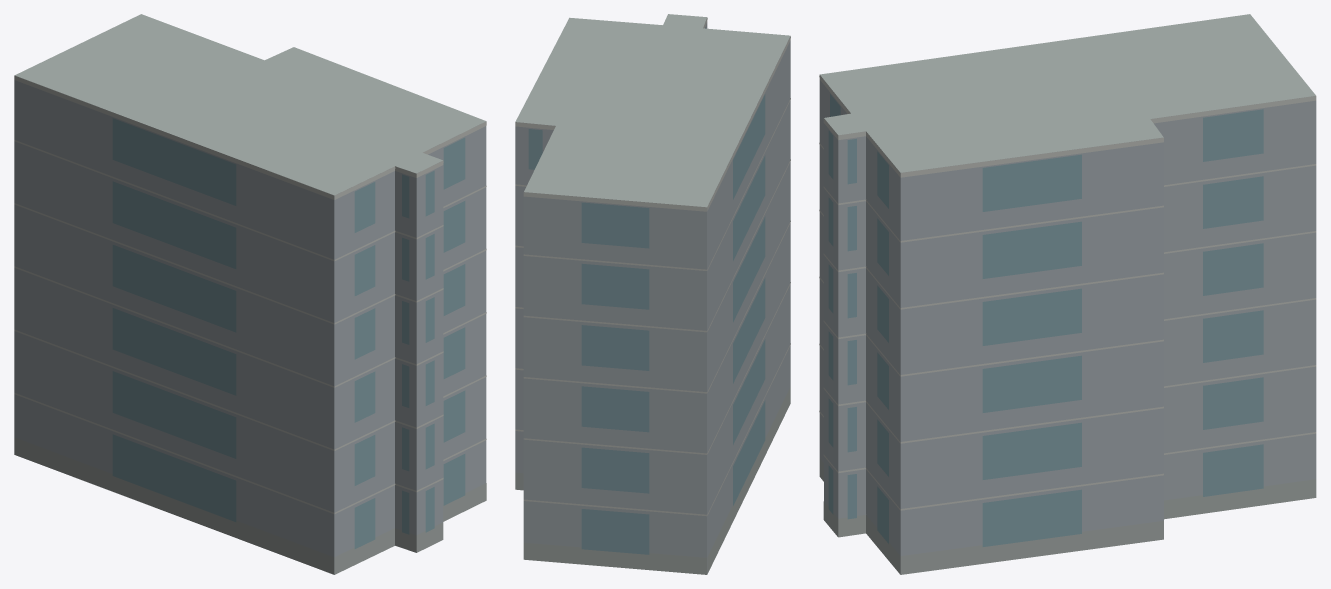
The model's file is survey-upis-32829399.glb.
The picture shows the model from 3 angles, left to right: view 1: azimuth 30°, elevation 25°; view 2: azimuth 150°, elevation 25°; view 3: azimuth 270°, elevation 25°; orthographic projection. The views are drawn at different scales.
Visible parts, largest first — view 1: survey-upis-32829399.tmp; view 2: survey-upis-32829399.tmp; view 3: survey-upis-32829399.tmp.
Part boxes in pixels (box(x1,y1,x2,y2)): survey-upis-32829399.tmp: box(14, 14, 486, 574); survey-upis-32829399.tmp: box(515, 14, 790, 574); survey-upis-32829399.tmp: box(819, 14, 1316, 574).
Bounding box in the file's own units: 17.01 × 20.05 × 22.47.
